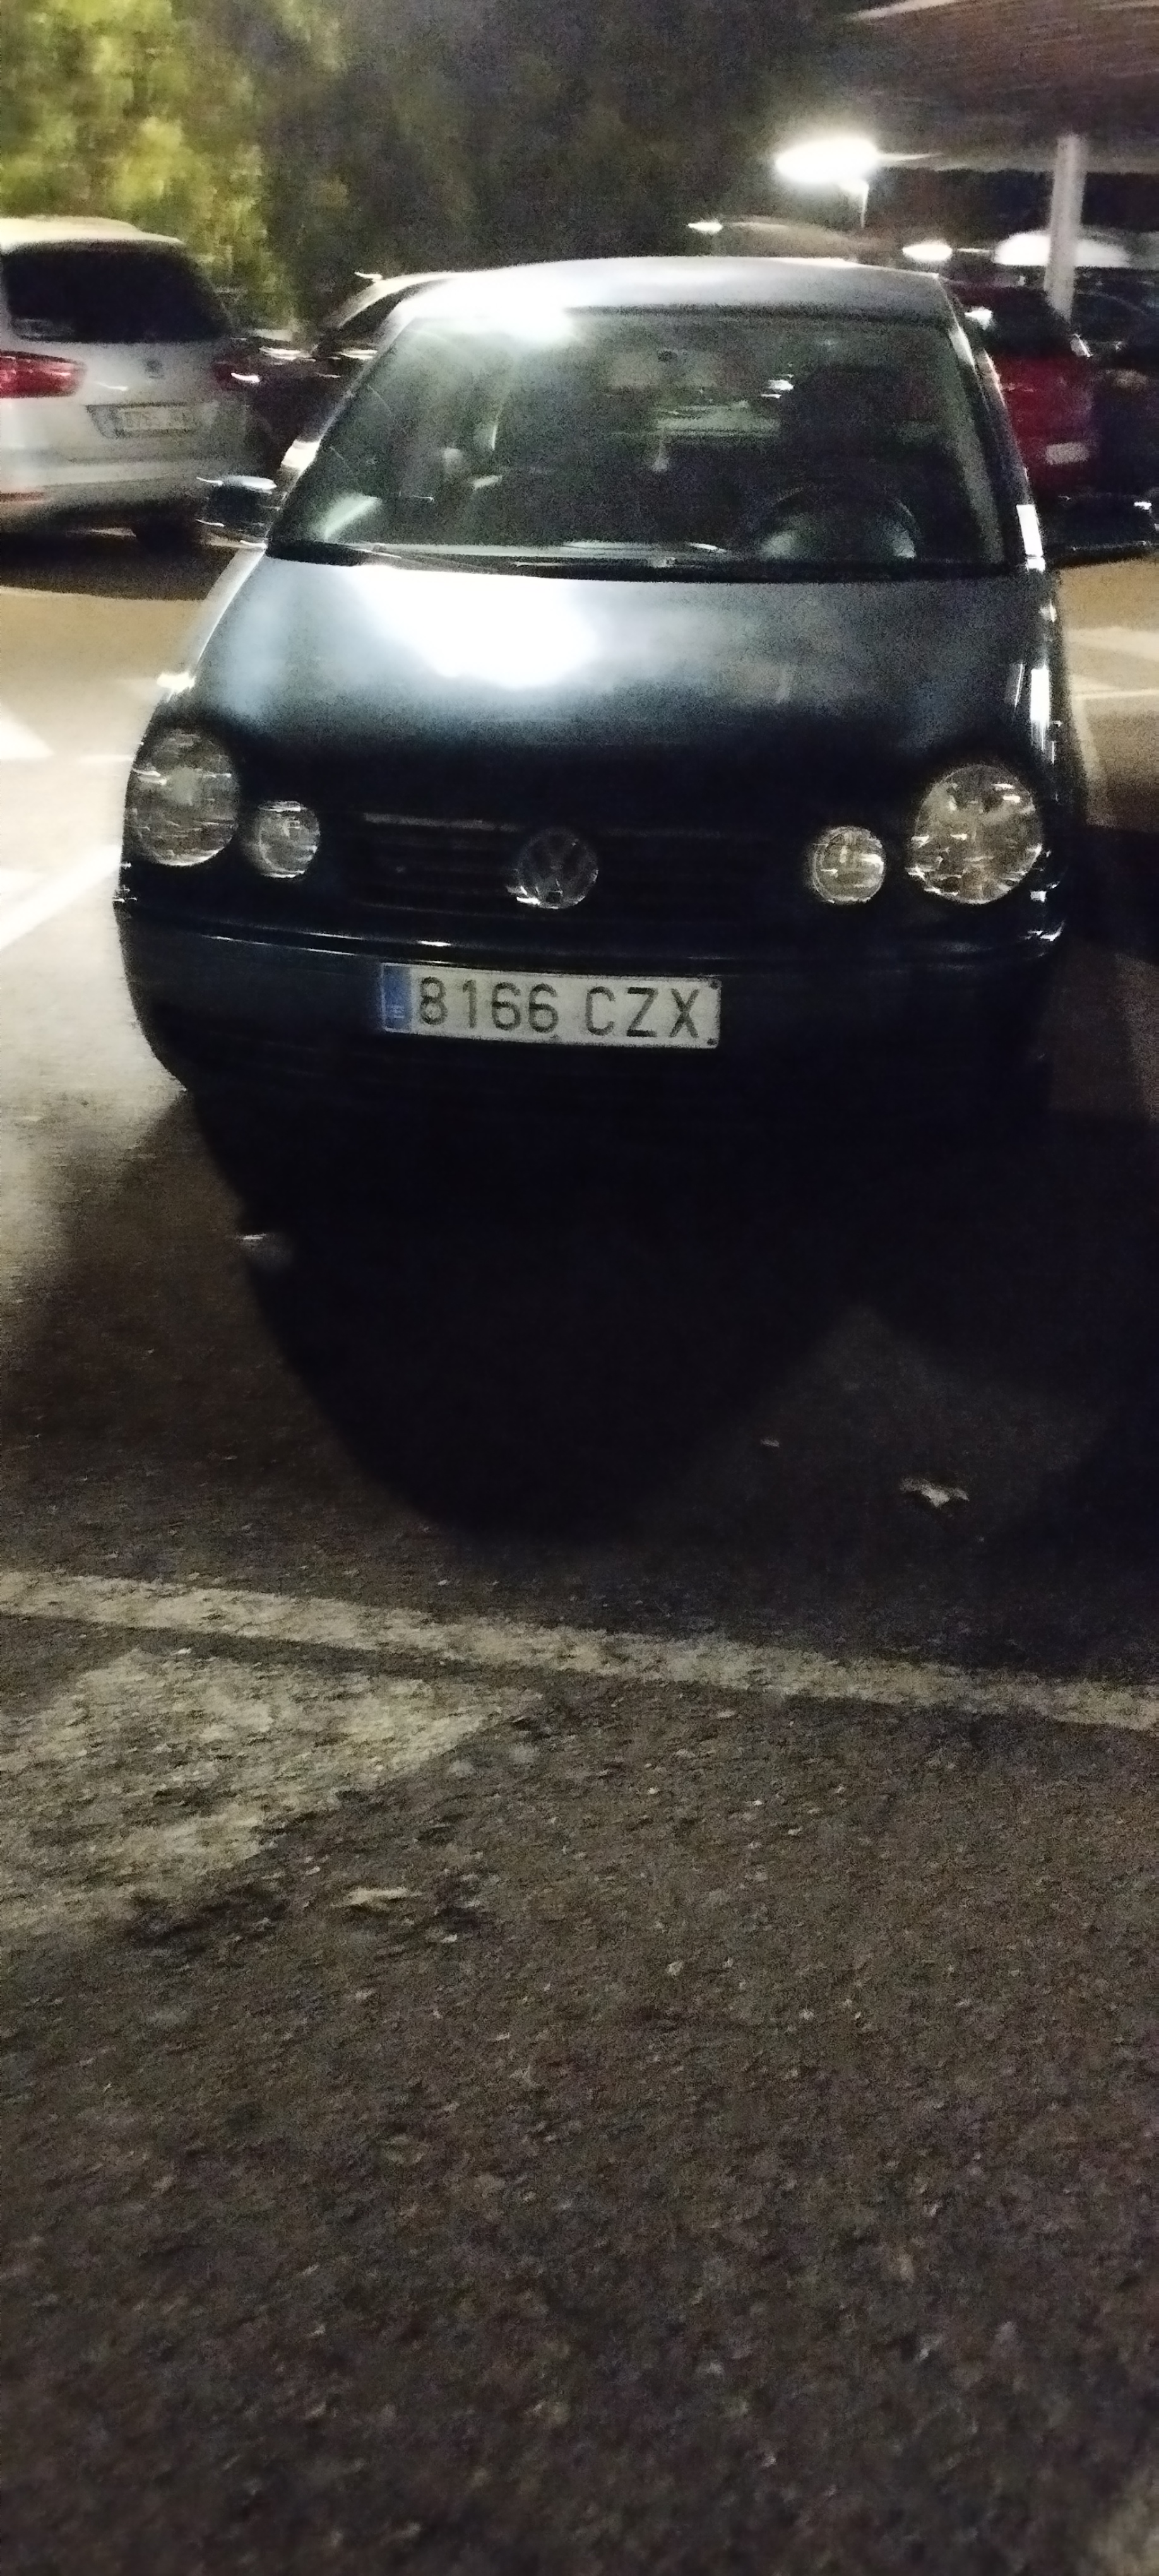Car: (125, 264, 1096, 1171)
Plate: (381, 953, 726, 1044)
